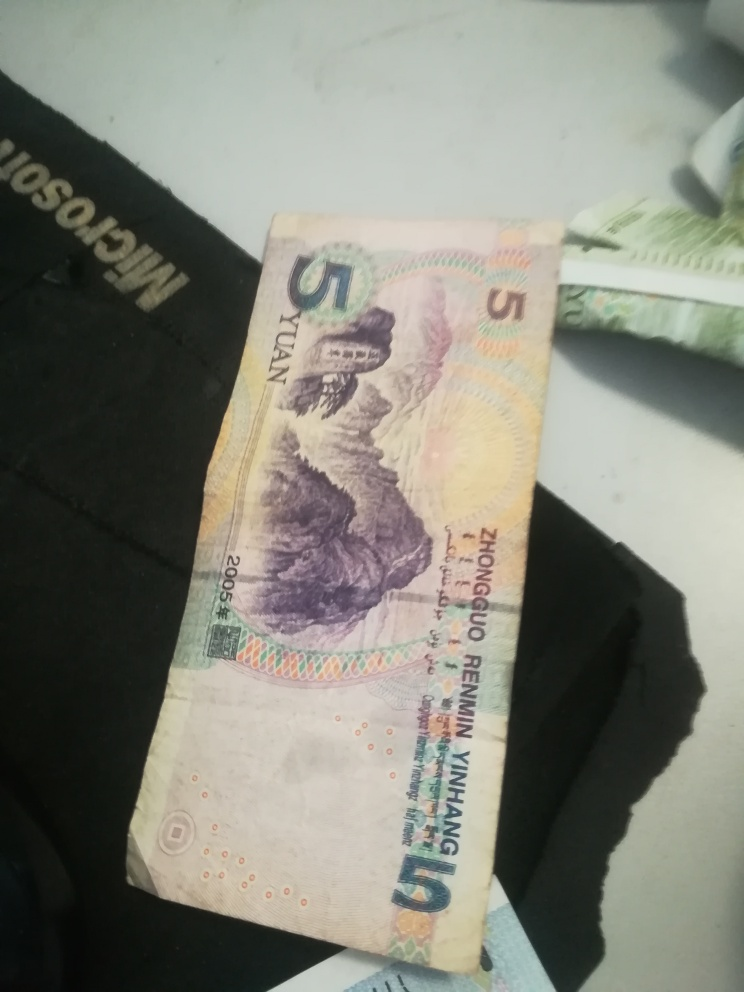rmb: (117, 201, 573, 980)
